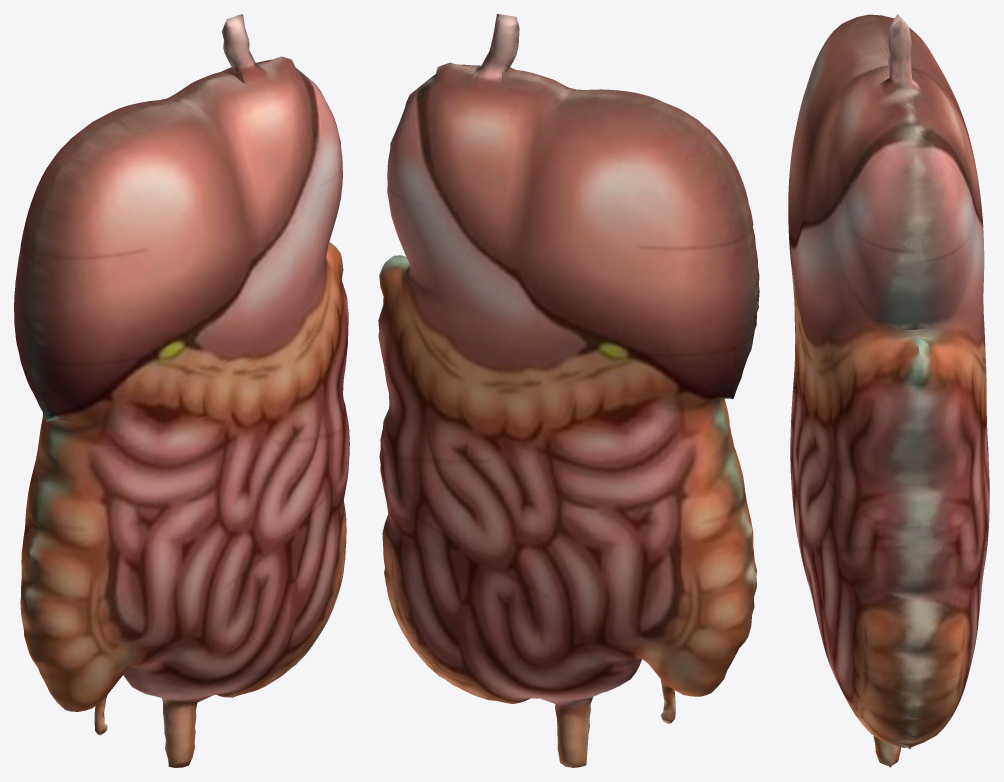
The model's file is human organs.fbx.
The picture shows the model from 3 angles, left to right: view 1: azimuth 30°, elevation 25°; view 2: azimuth 150°, elevation 25°; view 3: azimuth 270°, elevation 25°; orthographic projection. The views are drawn at different scales.
Parts seen in each view (by area): view 1: root; view 2: root; view 3: root.
Boxes of the visible parts, x1,y1,x2,y2 form: root: (14,14,349,767); root: (378,14,759,767); root: (788,14,989,767).
Size of the model in its own units: 0.584 by 1.2 by 0.2813.
1 material, 1 textured.
